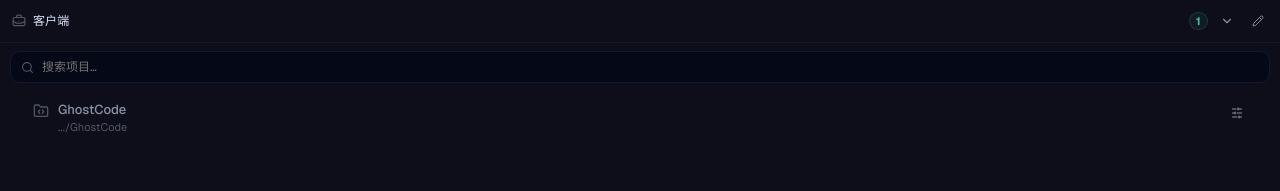
Test case: ProjectSelector › 自定义分组中的项目应支持移回未分组
Click the button named "管理项目 GhostCode" at (1237, 113), box [1225,101,1249,125]
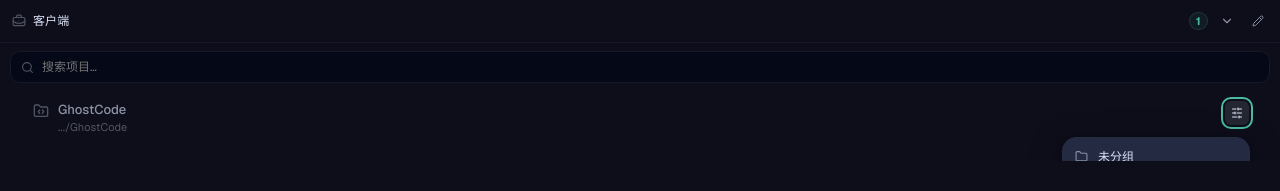
Click the menu item with aria-label "移动到分组 未分组" at (1156, 156), box [1063,138,1249,174]
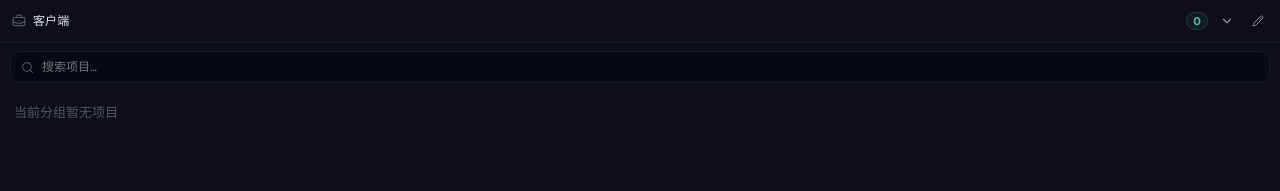
Now the button "GhostCode" is gone
